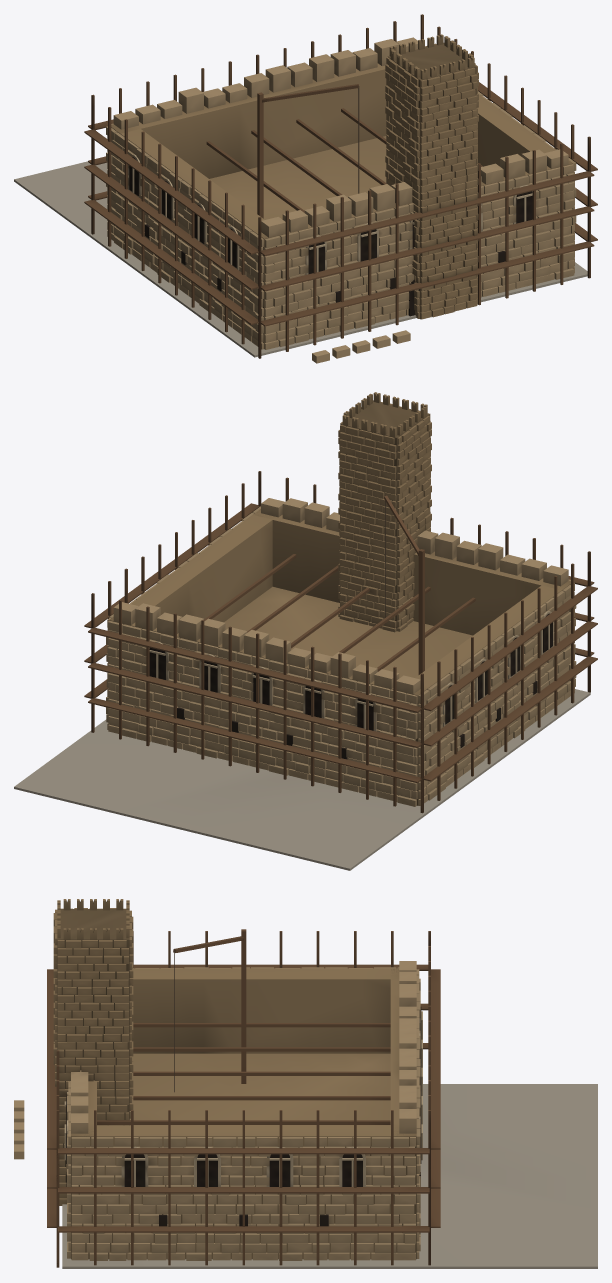
The model's file is palazzo-vecchio-1300.glb.
3 views of the same model, one above another, from view 1: azimuth 30°, elevation 25°; view 2: azimuth 150°, elevation 25°; view 3: azimuth 270°, elevation 25° (orthographic). The views are drawn at different scales.
Visible parts, largest first — view 1: p0_walls, p1_scaffolding; view 2: p0_walls, p1_scaffolding; view 3: p0_walls, p1_scaffolding.
Boxes of the visible parts, box(x1,y1,x2,y2) form: p0_walls: box(14, 34, 587, 357); p1_scaffolding: box(84, 14, 597, 363); p0_walls: box(14, 392, 590, 870); p1_scaffolding: box(84, 471, 597, 813); p0_walls: box(53, 899, 597, 1268); p1_scaffolding: box(14, 929, 440, 1267).
Bounding box in the file's own units: 51.6 × 35.25 × 67.6.
